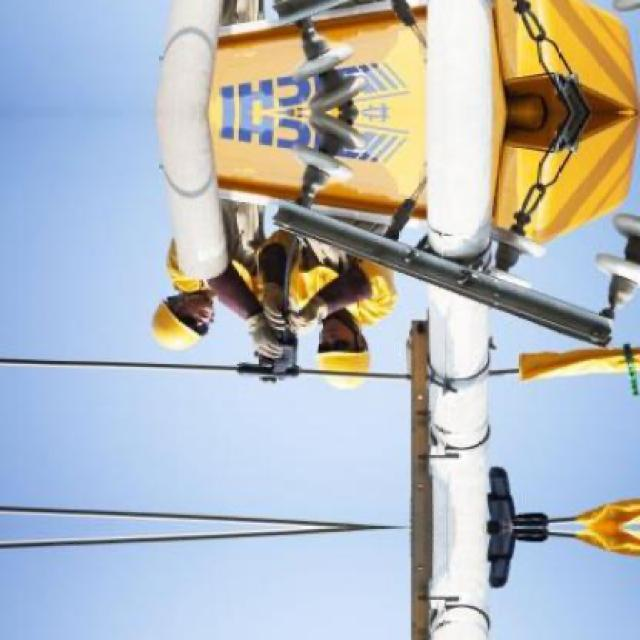con casco: (59, 246, 253, 387), (288, 295, 405, 412)
